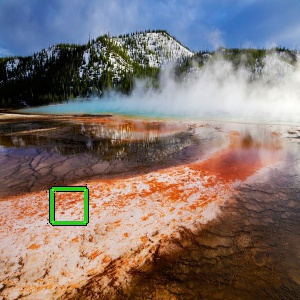square: (48, 183, 91, 227)
